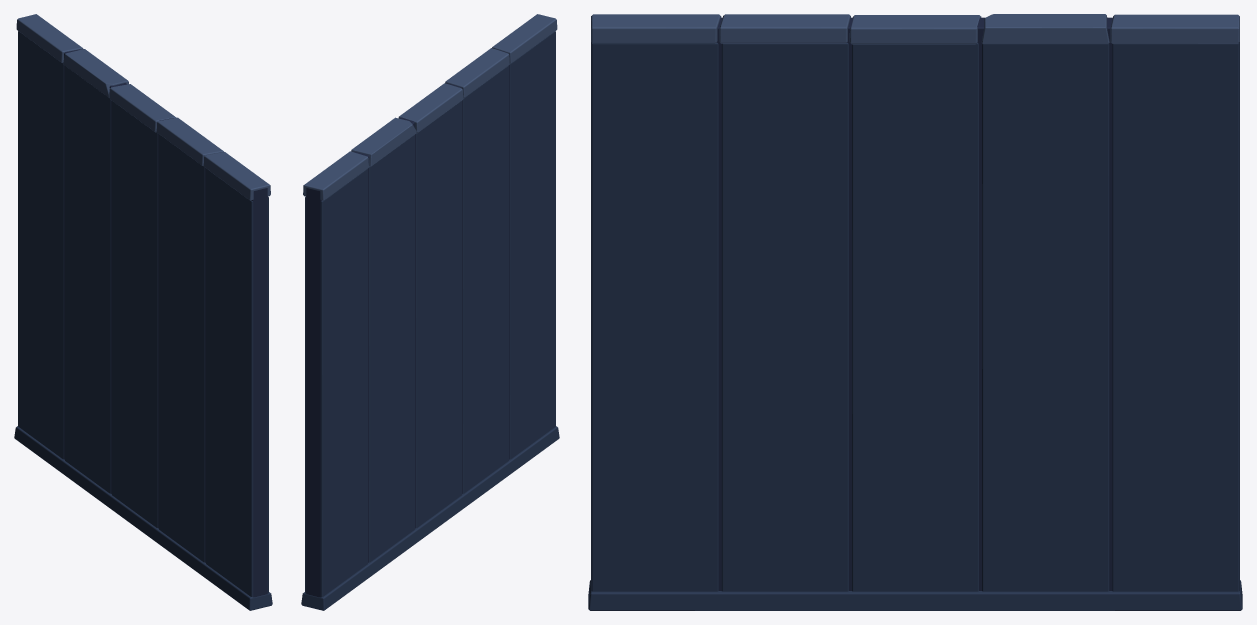
Rendered from wall_navy_38_840_850.glb.
3 renders of one model, left to right at view 1: azimuth 30°, elevation 25°; view 2: azimuth 150°, elevation 25°; view 3: azimuth 270°, elevation 25°, orthographic. The views are drawn at different scales.
Visible parts, largest first — view 1: wall_navy_38_840_850; view 2: wall_navy_38_840_850; view 3: wall_navy_38_840_850.
Boxes of the visible parts, <box> form: wall_navy_38_840_850: <box>14,14,272,610</box>; wall_navy_38_840_850: <box>301,14,559,610</box>; wall_navy_38_840_850: <box>588,14,1242,610</box>.
Bounding box in the file's own units: 0.4982 × 8.41 × 8.54.
